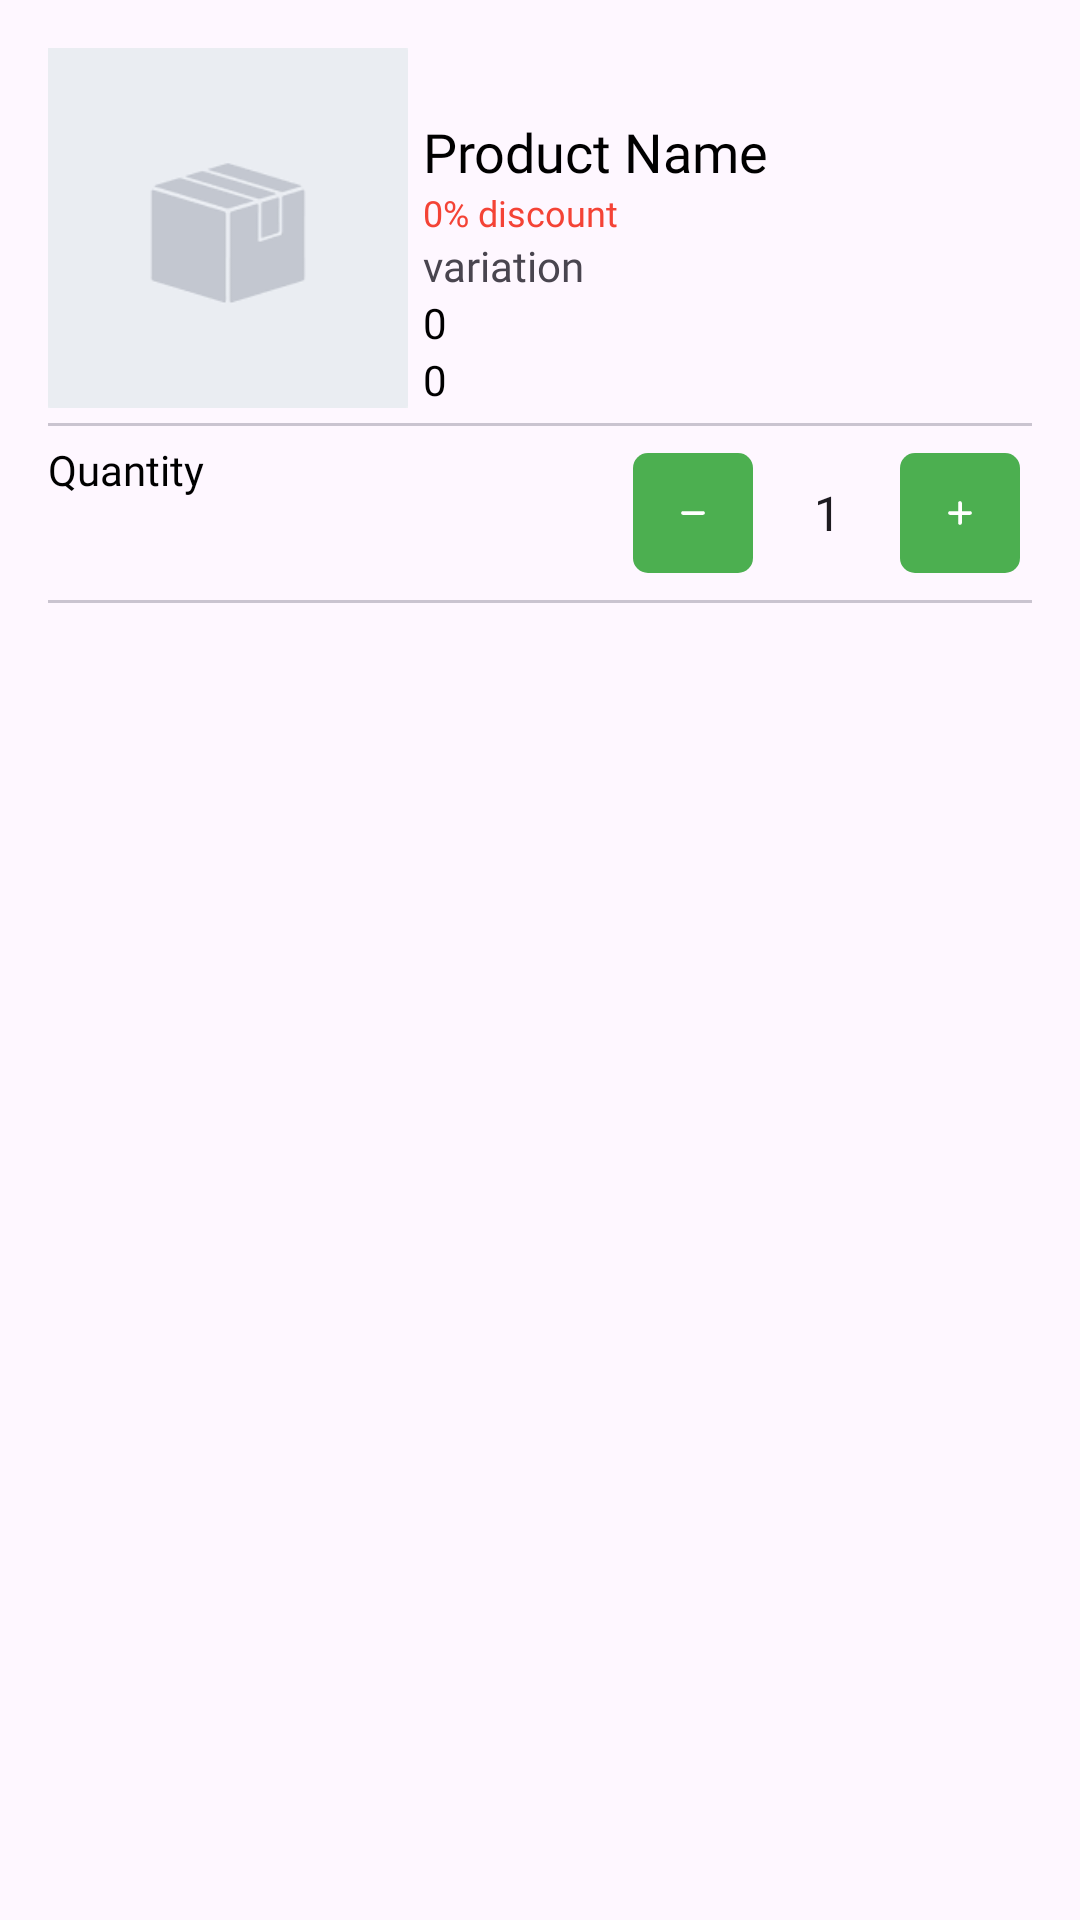

Icons on this 1080x1920 Android screen, each with its box as (x1, y1, x2, y2):
add: (900, 453, 1020, 573)
minus: (633, 453, 753, 573)
